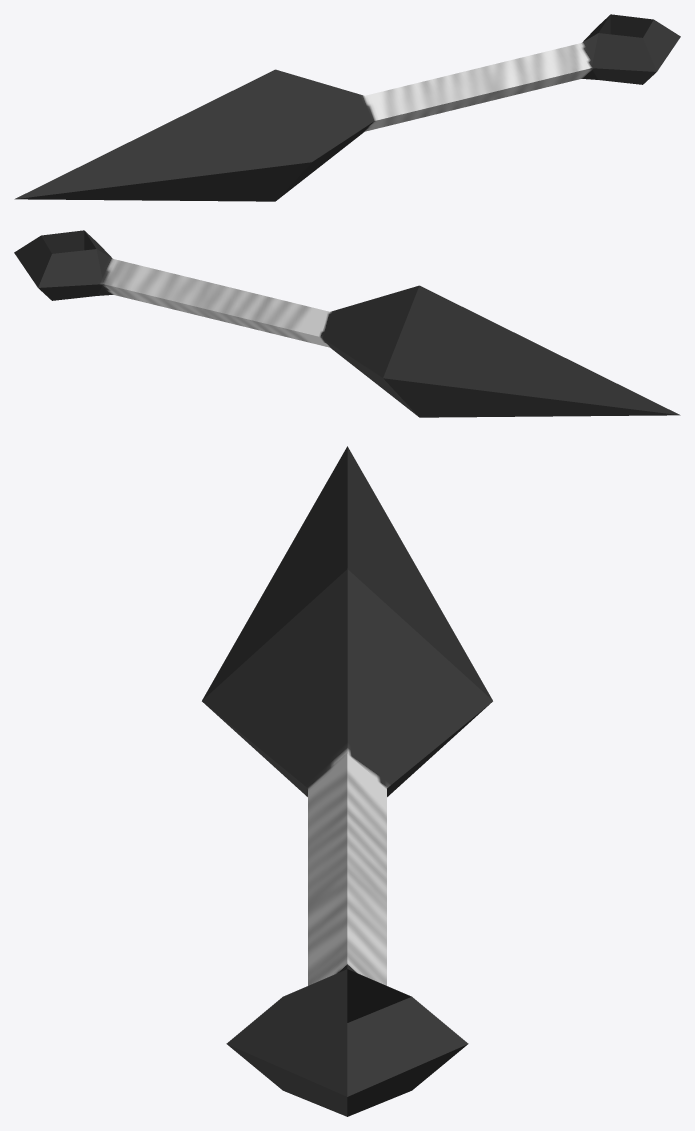
Rendered from kunai.fbx.
3 views of the same model, one above another, from view 1: azimuth 30°, elevation 25°; view 2: azimuth 150°, elevation 25°; view 3: azimuth 270°, elevation 25° (orthographic). The views are drawn at different scales.
Parts seen in each view (by area): view 1: Kunai; view 2: Kunai; view 3: Kunai.
Boxes of the visible parts, x1,y1,x2,y2 form: Kunai: [14, 14, 680, 201]; Kunai: [14, 230, 680, 417]; Kunai: [202, 446, 492, 1116].
Size of the model in its own units: 0.3467 by 0.0656 by 0.0656.
